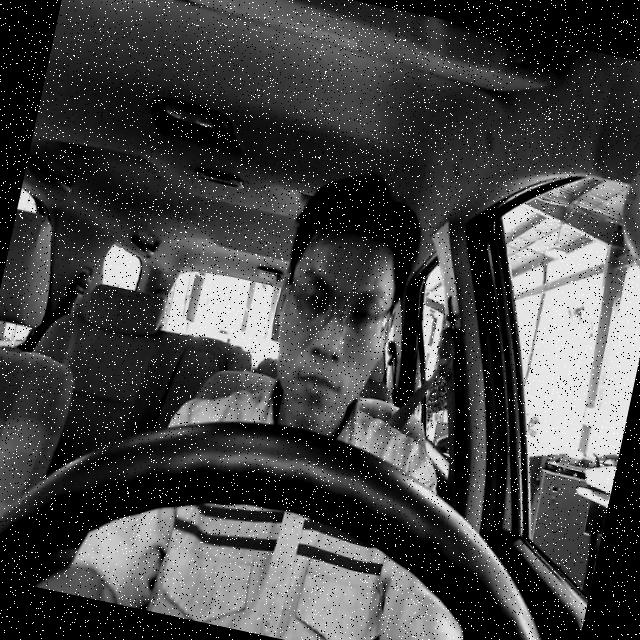focused: (252, 214, 411, 436)
